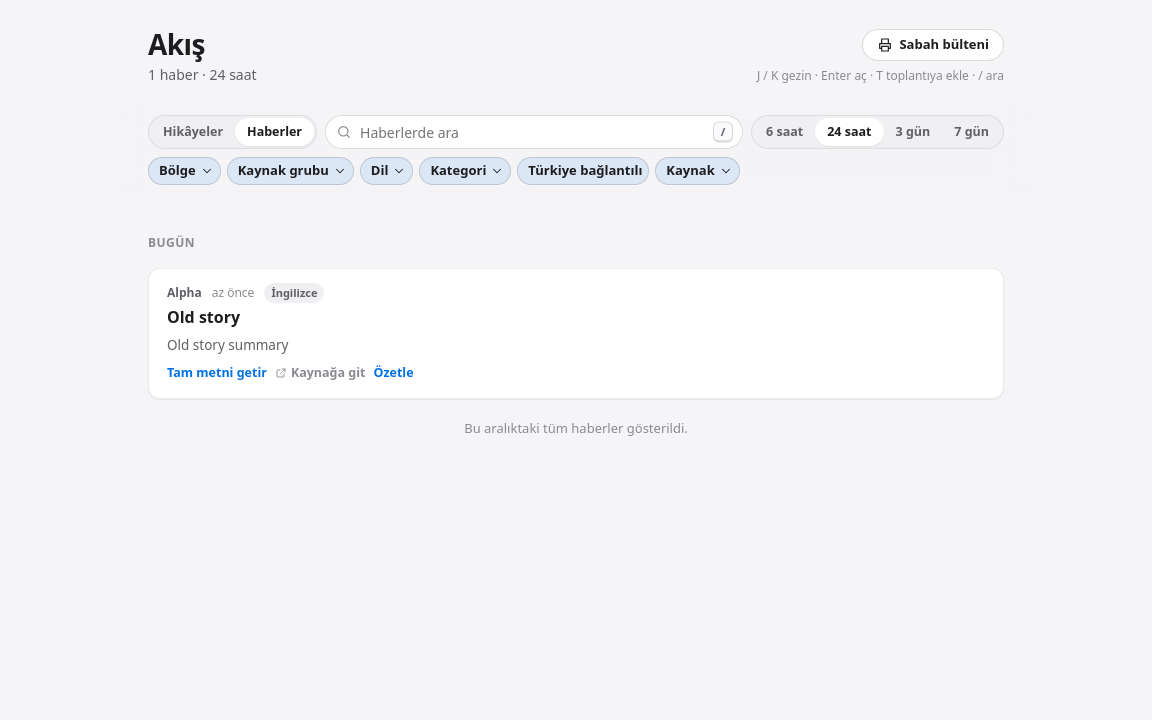
Test: AI in the feed › requests translation for an unprocessed article
Click the button "Özetle".
click(394, 373)  # box [374,364,414,382]
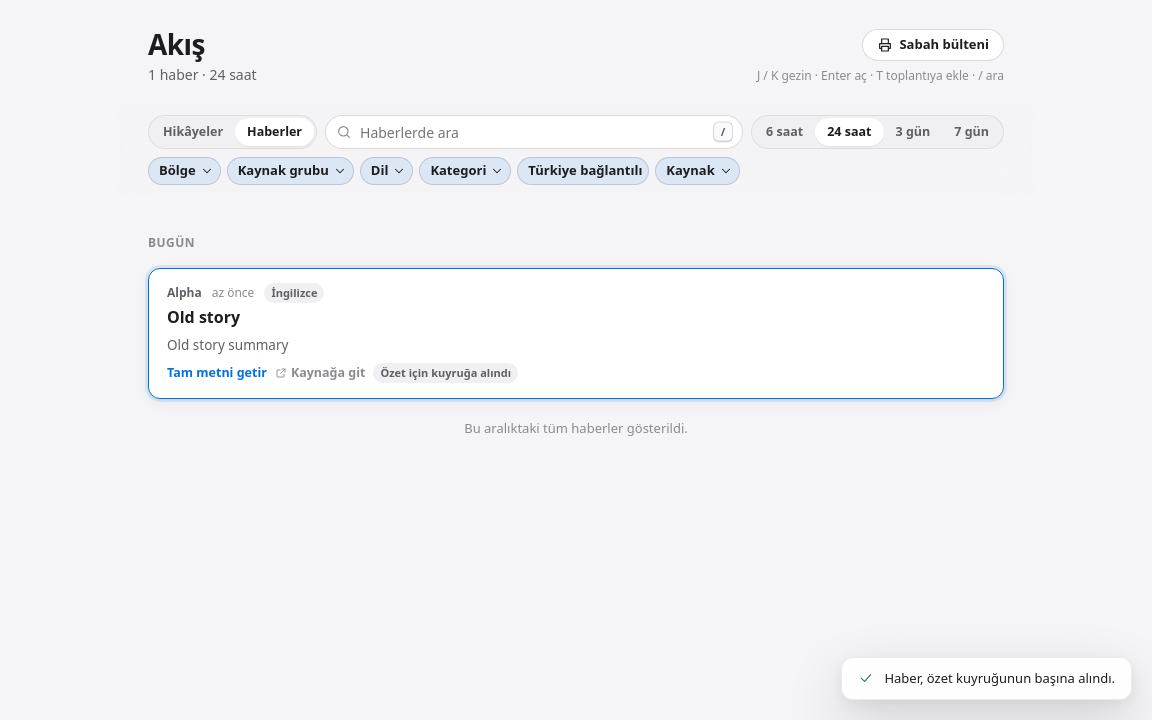
Expected: the text "Özet için kuyruğa alındı" is shown, [374,363,518,383]
